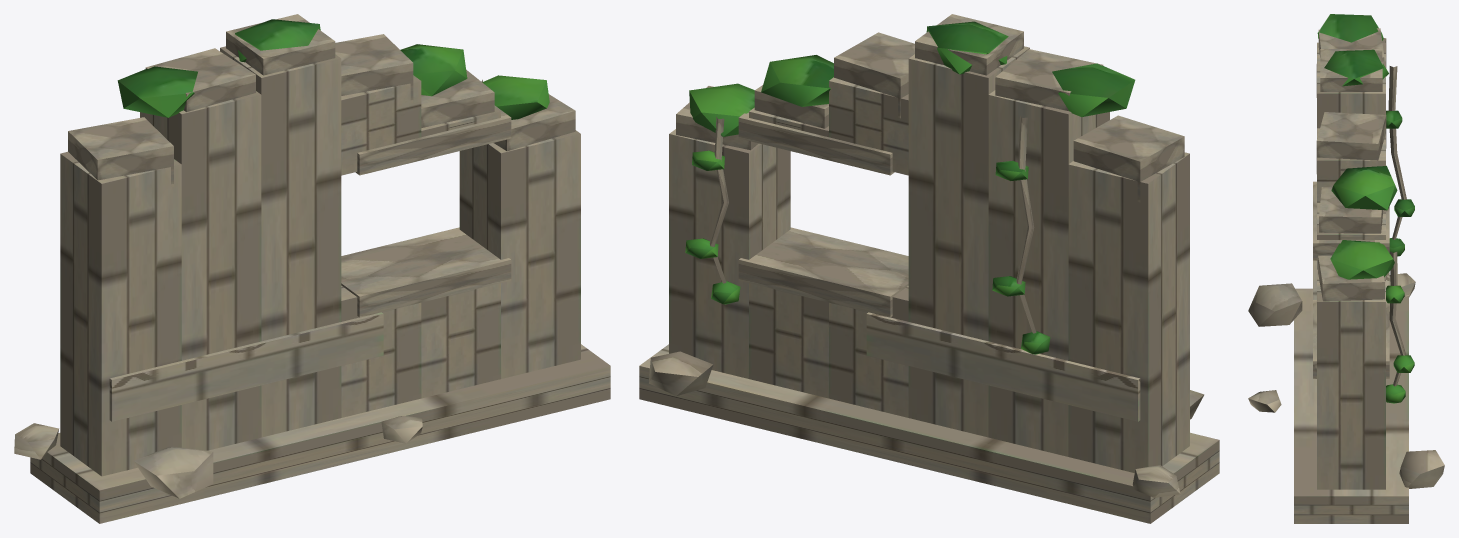
The model's file is ruin_wall.glb.
3 renders of one model, left to right at view 1: azimuth 30°, elevation 25°; view 2: azimuth 150°, elevation 25°; view 3: azimuth 270°, elevation 25°, orthographic. The views are drawn at different scales.
Visible parts, largest first — view 1: ruin_wall; view 2: ruin_wall; view 3: ruin_wall.
Part boxes in pixels (x1,y1,x2,y2): ruin_wall: (14,14,610,523); ruin_wall: (639,14,1219,523); ruin_wall: (1248,14,1444,523).
Size of the model in its own units: 6.69 by 5.05 by 2.57.
Materials: 2 (2 with a texture image).
